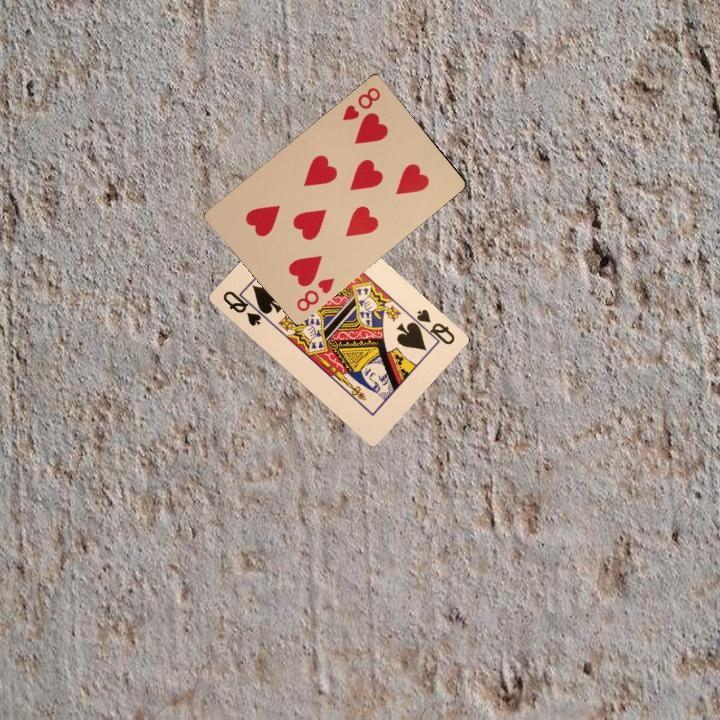8h: (338, 83, 383, 123), (292, 274, 336, 314)
Qs: (219, 286, 270, 329), (408, 305, 458, 347)
